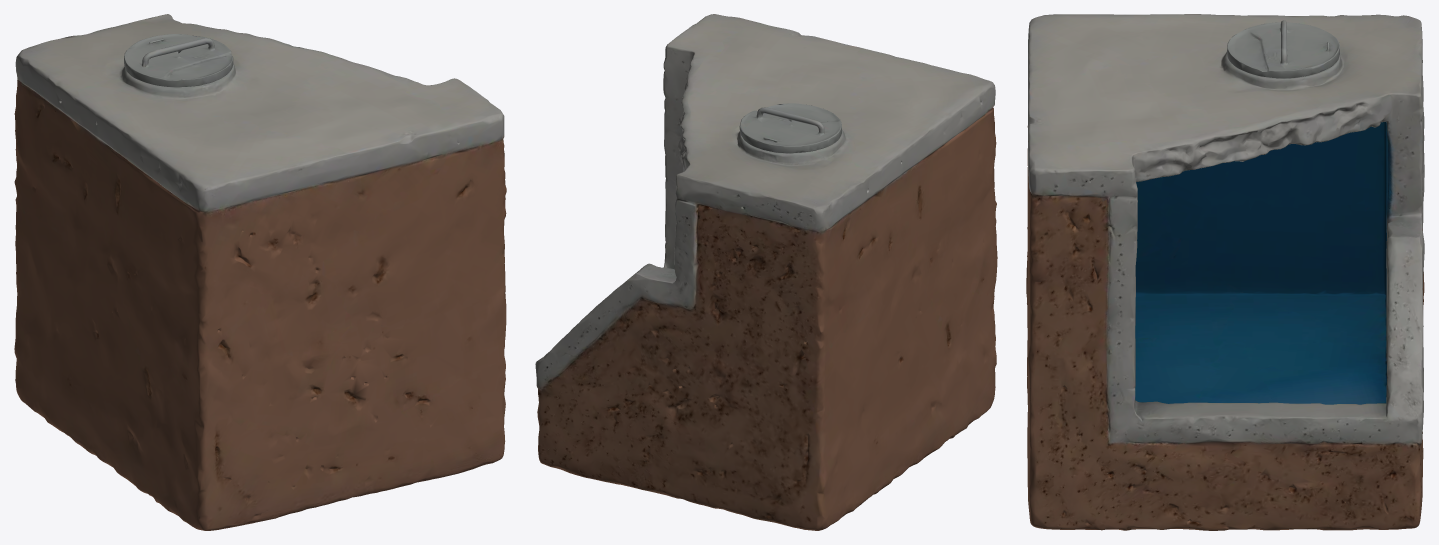
Rendered from water-tank.glb.
3 views of the same model, side by side, from view 1: azimuth 30°, elevation 25°; view 2: azimuth 150°, elevation 25°; view 3: azimuth 270°, elevation 25° (orthographic). The views are drawn at different scales.
Visible parts, largest first — view 1: tripo_node_b2be3f66-735a-4f8a-8209-f56b07c6f8e7; view 2: tripo_node_b2be3f66-735a-4f8a-8209-f56b07c6f8e7; view 3: tripo_node_b2be3f66-735a-4f8a-8209-f56b07c6f8e7.
Part boxes in pixels (x1,y1,x2,y2): tripo_node_b2be3f66-735a-4f8a-8209-f56b07c6f8e7: [14, 14, 506, 530]; tripo_node_b2be3f66-735a-4f8a-8209-f56b07c6f8e7: [535, 14, 997, 530]; tripo_node_b2be3f66-735a-4f8a-8209-f56b07c6f8e7: [1026, 14, 1424, 530].
Size of the model in its own units: 0.855 by 1 by 0.9153.
Materials: 1 (1 with a texture image).
